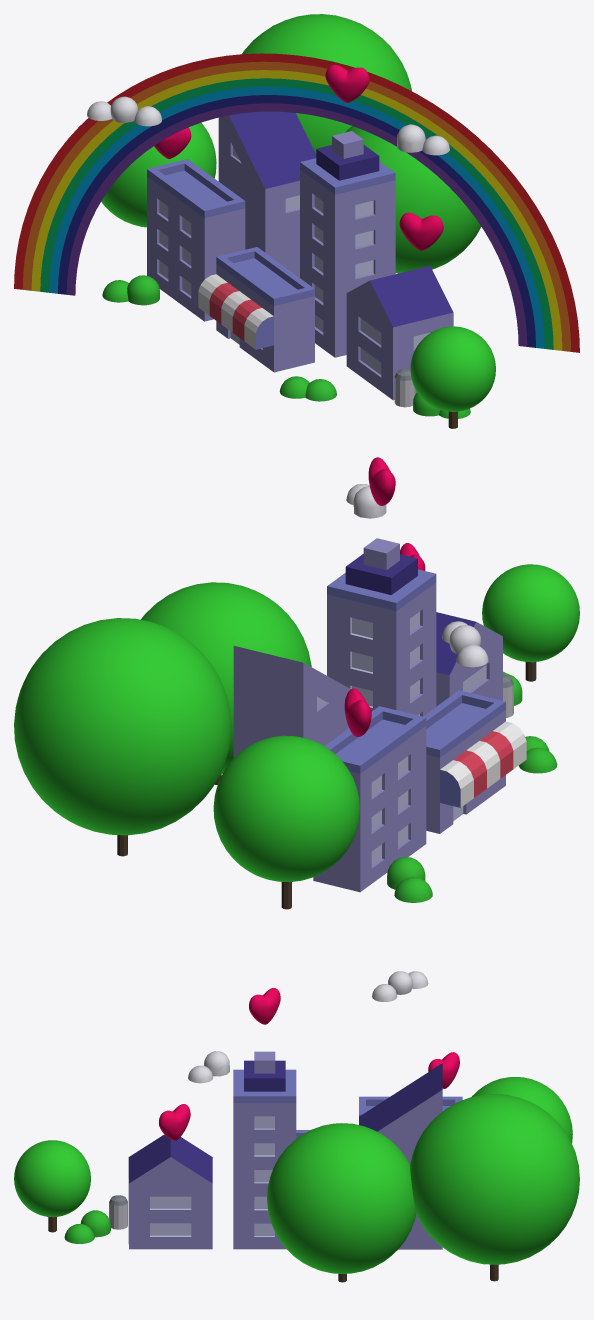
The model's file is scene_pNVCE8QGjn.glb.
The picture shows the model from 3 angles, top to bottom: view 1: azimuth 30°, elevation 25°; view 2: azimuth 150°, elevation 25°; view 3: azimuth 270°, elevation 25°; orthographic projection. The views are drawn at different scales.
Parts seen in each view (by area): view 1: Circle.001, Cube.003_Cube.004, Cube, Cube.002_Cube.003, Cube.004_Cube.005, Cube.001_Cube.002, Icosphere.015_Icosphere.011, Icosphere.016, Icosphere.006_Icosphere.020, Icosphere.001_Icosphere.006, Cylinder, Cube.010 (+10 smaller); view 2: Icosphere.015_Icosphere.011, Icosphere.001_Icosphere.006, Cube.003_Cube.004, Cube, Icosphere.016, Cube.002_Cube.003, Icosphere.006_Icosphere.020, Cube.001_Cube.002, Cylinder, Cube.004_Cube.005, Cube.010, Icosphere.012_Icosphere.005 (+7 smaller); view 3: Icosphere.015_Icosphere.011, Icosphere.016, Cube.004_Cube.005, Cube.003_Cube.004, Icosphere.006_Icosphere.020, Cube.002_Cube.003, Icosphere.001_Icosphere.006, Cube.010, Icosphere.012_Icosphere.005, Icosphere.011_Icosphere.004, SurfSphere.004, SurfSphere.003 (+6 smaller).
Part boxes in pixels (<box>): Circle.001: <box>14,53,579,352</box>; Cube.003_Cube.004: <box>300,158,395,357</box>; Cube: <box>147,159,245,321</box>; Cube.002_Cube.003: <box>218,111,316,277</box>; Cube.004_Cube.005: <box>346,266,453,400</box>; Cube.001_Cube.002: <box>216,247,314,372</box>; Icosphere.015_Icosphere.011: <box>242,14,411,153</box>; Icosphere.016: <box>345,126,481,273</box>; Icosphere.006_Icosphere.020: <box>410,326,495,411</box>; Icosphere.001_Icosphere.006: <box>101,122,216,227</box>; Cylinder: <box>198,274,273,349</box>; Cube.010: <box>316,145,379,180</box>; Icosphere.015_Icosphere.011: <box>14,618,231,835</box>; Icosphere.001_Icosphere.006: <box>213,735,359,881</box>; Cube.003_Cube.004: <box>327,569,436,716</box>; Cube: <box>313,706,426,892</box>; Icosphere.016: <box>141,582,311,774</box>; Cube.002_Cube.003: <box>233,646,350,758</box>; Icosphere.006_Icosphere.020: <box>482,564,579,662</box>; Cube.001_Cube.002: <box>423,690,505,833</box>; Cylinder: <box>440,721,526,807</box>; Cube.004_Cube.005: <box>436,612,502,706</box>; Cube.010: <box>345,554,417,594</box>; Icosphere.012_Icosphere.005: <box>442,621,488,667</box>; Icosphere.015_Icosphere.011: <box>410,1094,579,1264</box>; Icosphere.016: <box>267,1123,416,1273</box>; Cube.004_Cube.005: <box>128,1134,212,1249</box>; Cube.003_Cube.004: <box>233,1069,296,1249</box>; Icosphere.006_Icosphere.020: <box>14,1140,90,1217</box>; Cube.002_Cube.003: <box>359,1063,442,1249</box>; Icosphere.001_Icosphere.006: <box>472,1077,572,1143</box>; Cube.010: <box>244,1060,285,1091</box>; Icosphere.012_Icosphere.005: <box>372,971,428,1001</box>; Icosphere.011_Icosphere.004: <box>188,1051,229,1083</box>; SurfSphere.004: <box>159,1104,190,1140</box>; SurfSphere.003: <box>249,988,280,1024</box>.
Size of what is drawn, in the model's own units: 5.54 by 3.77 by 7.91.
